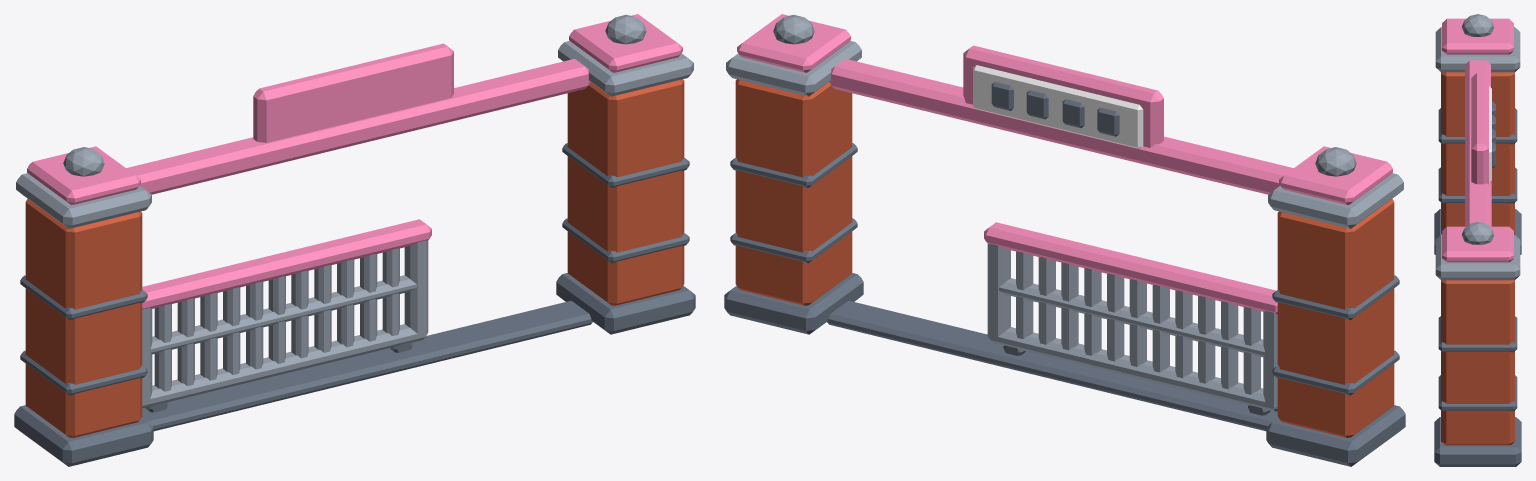
The model's file is Prop_sakura_schoolyard_SchoolGate.glb.
3 renders of one model, left to right at view 1: azimuth 30°, elevation 25°; view 2: azimuth 150°, elevation 25°; view 3: azimuth 270°, elevation 25°, orthographic. The views are drawn at different scales.
Parts seen in each view (by area): view 1: Brick_D0603F, Sakura_FF8FC0, Stone_9AA4B2, StoneDark_6B7686; view 2: Brick_D0603F, Stone_9AA4B2, Sakura_FF8FC0, StoneDark_6B7686, Plate_FFFFFF; view 3: Brick_D0603F, Sakura_FF8FC0, StoneDark_6B7686, Stone_9AA4B2, Plate_FFFFFF.
Part boxes in pixels (x1=…): Brick_D0603F: x1=25, y1=79, x2=684, y2=437; Sakura_FF8FC0: x1=27, y1=14, x2=682, y2=309; Stone_9AA4B2: x1=16, y1=14, x2=693, y2=408; StoneDark_6B7686: x1=14, y1=143, x2=695, y2=466; Brick_D0603F: x1=735, y1=79, x2=1394, y2=437; Stone_9AA4B2: x1=726, y1=14, x2=1403, y2=411; Sakura_FF8FC0: x1=737, y1=14, x2=1392, y2=314; StoneDark_6B7686: x1=724, y1=81, x2=1405, y2=466; Plate_FFFFFF: x1=973, y1=65, x2=1143, y2=148; Brick_D0603F: x1=1441, y1=72, x2=1514, y2=445; Sakura_FF8FC0: x1=1442, y1=18, x2=1513, y2=262; StoneDark_6B7686: x1=1434, y1=101, x2=1521, y2=466; Stone_9AA4B2: x1=1435, y1=14, x2=1520, y2=280; Plate_FFFFFF: x1=1489, y1=86, x2=1491, y2=181.
Size of the model in its own units: 26.4 by 12.15 by 4.
